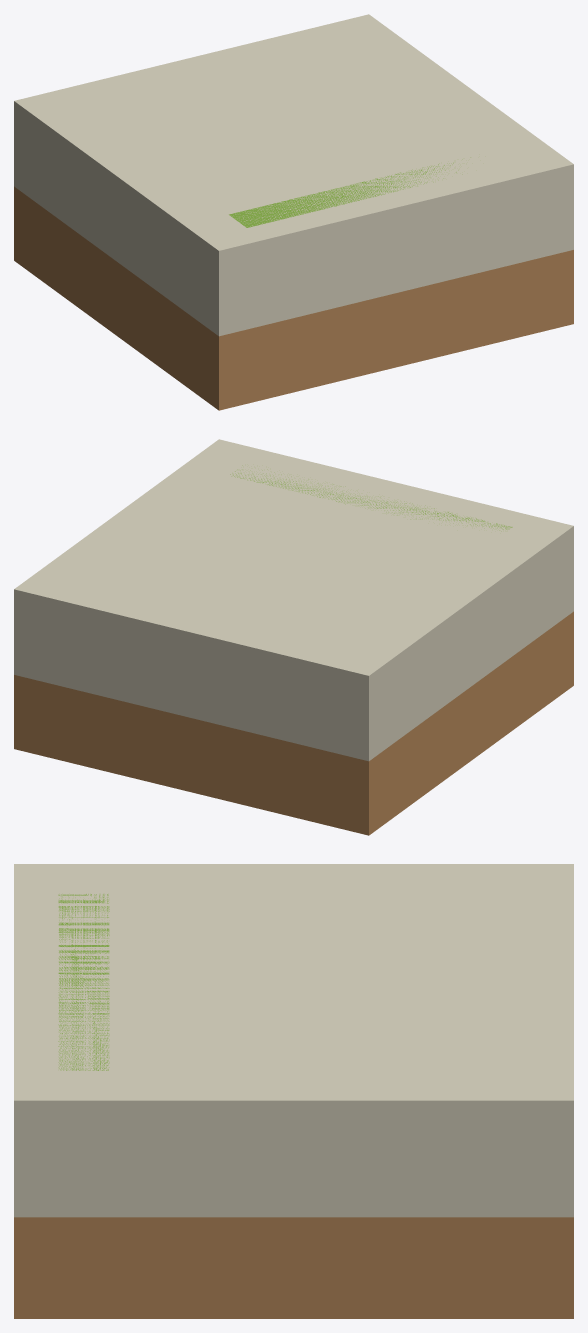
The model's file is Building 60.FBX.
3 views of the same model, one above another, from view 1: azimuth 30°, elevation 25°; view 2: azimuth 150°, elevation 25°; view 3: azimuth 270°, elevation 25° (orthographic). The views are drawn at different scales.
Visible parts, largest first — view 1: Group78, Group79; view 2: Group78, Group79; view 3: Group78, Group79.
Boxes of the visible parts, x1=… form: Group78: x1=14, y1=14, x2=573, y2=410; Group79: x1=75, y1=38, x2=470, y2=227; Group78: x1=14, y1=439, x2=573, y2=835; Group79: x1=75, y1=465, x2=512, y2=652; Group78: x1=14, y1=864, x2=573, y2=1318; Group79: x1=58, y1=893, x2=529, y2=1070.
Size of the model in its own units: 39.37 by 16.93 by 39.37.
